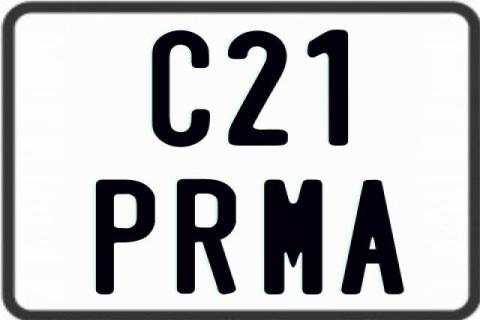0: (227, 30, 292, 148), (304, 28, 345, 144)
A: (338, 180, 402, 294)
C: (151, 28, 215, 145)
M: (263, 179, 324, 295)
P: (96, 178, 158, 294)
R: (177, 180, 241, 296)
